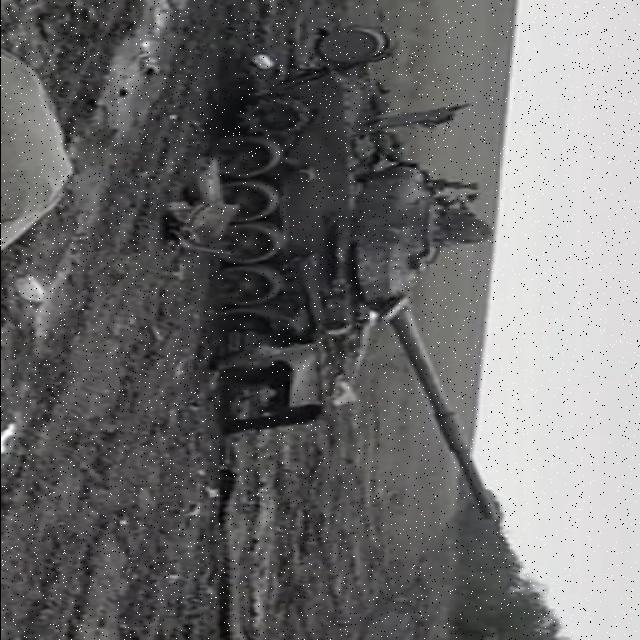TANK: (211, 31, 511, 522)
